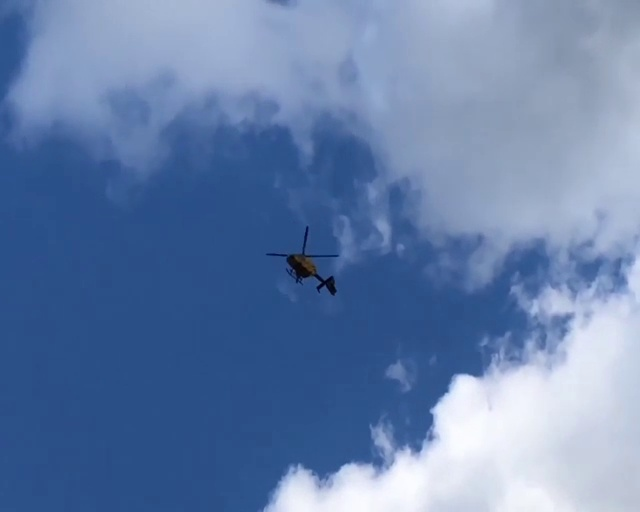HELICOPTER: (265, 225, 339, 295)
